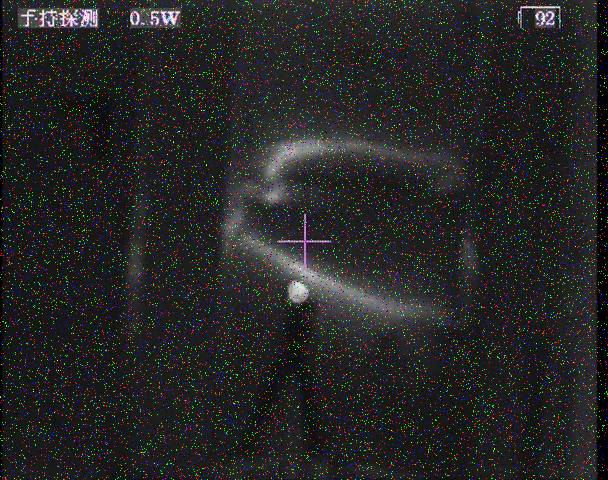my: (287, 280, 310, 304)
